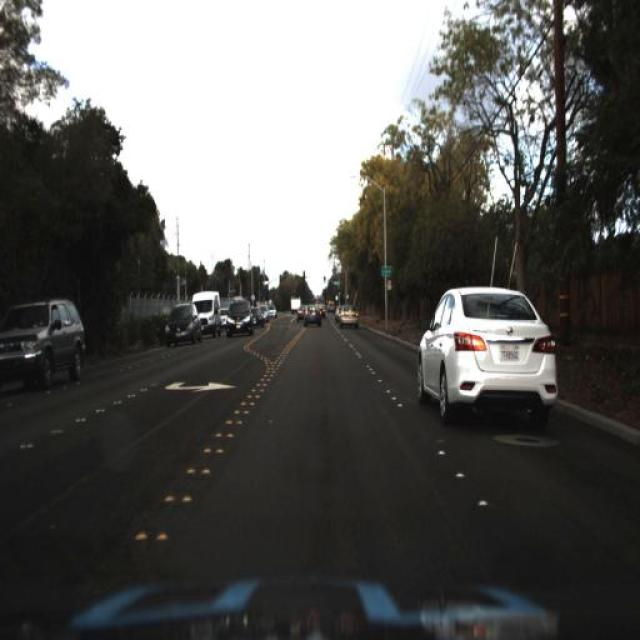car: (406, 279, 566, 433), (0, 297, 89, 394), (161, 298, 201, 350), (222, 294, 257, 340), (192, 289, 220, 335), (335, 296, 361, 332), (301, 300, 323, 330)
